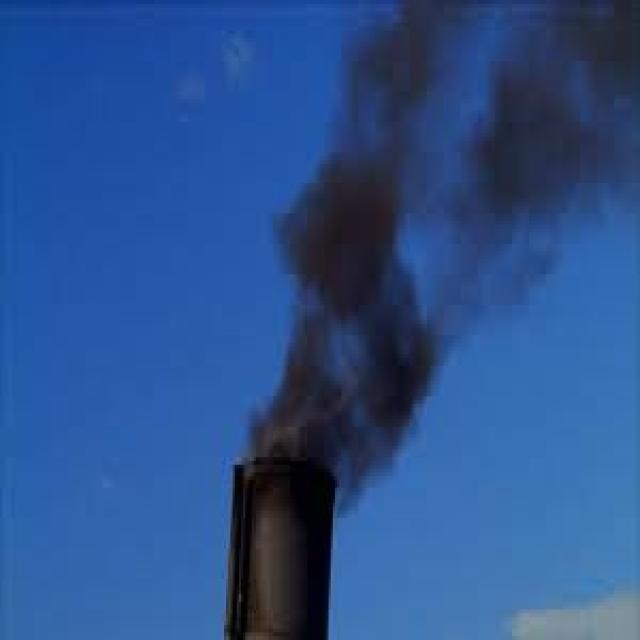Smoke: (246, 0, 640, 519)
